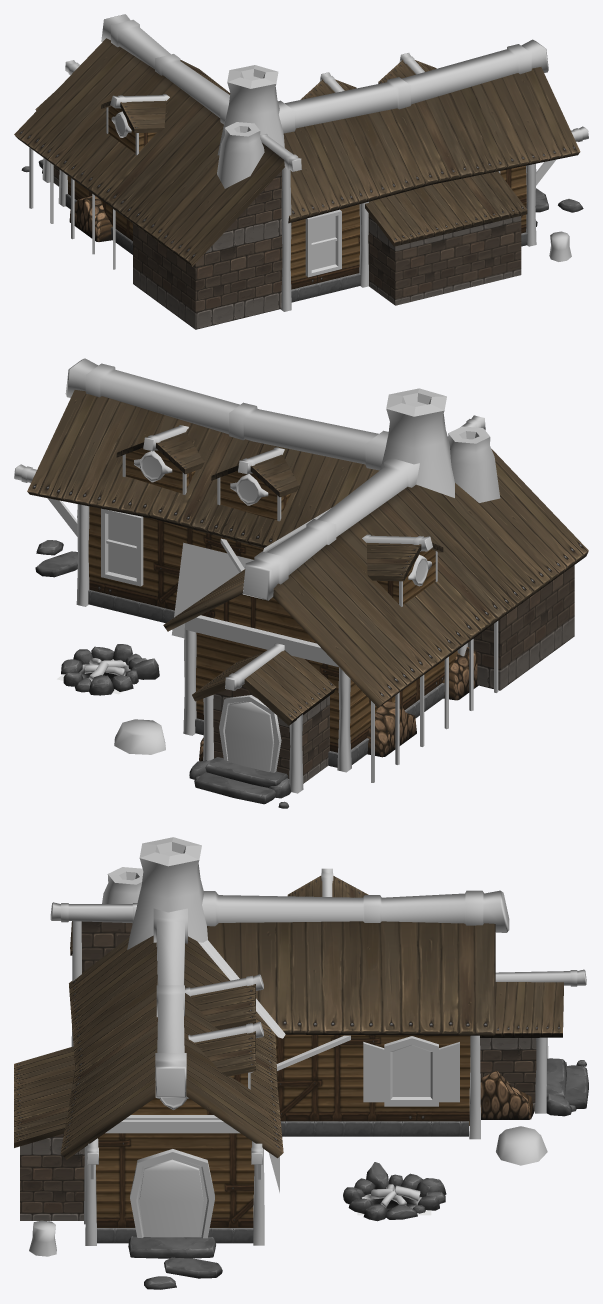
Rendered from GatheringLodge.fbx.
The picture shows the model from 3 angles, top to bottom: view 1: azimuth 30°, elevation 25°; view 2: azimuth 150°, elevation 25°; view 3: azimuth 270°, elevation 25°; orthographic projection. The views are drawn at different scales.
Visible parts, largest first — view 1: GatheringLodge_Main, Extension1, RoofWindow1, Window_7, WoodPile1, RoofWindow6, RoofWindow5, TreeStump2, BrickPorch; view 2: GatheringLodge_Main, BrickPorch, RoofWindow5, RoofWindow1, RoofWindow6, Window_5, BearPelt, Door5, WoodPile1, TreeStump1, Slab5, Slab4 (+3 smaller); view 3: GatheringLodge_Main, Extension1, BrickPorch, Window_6, Door4, RoofWindow5, RoofWindow6, DoorFrame1, WoodPile3, Slab1, TreeStump1, RoofWindow1 (+4 smaller).
Part boxes in pixels (x1=…): GatheringLodge_Main: x1=14, y1=14, x2=588, y2=329; Extension1: x1=365, y1=171, x2=527, y2=305; RoofWindow1: x1=101, y1=94, x2=169, y2=155; Window_7: x1=305, y1=209, x2=341, y2=277; WoodPile1: x1=69, y1=196, x2=112, y2=241; RoofWindow6: x1=378, y1=53, x2=436, y2=83; RoofWindow5: x1=300, y1=72, x2=356, y2=99; TreeStump2: x1=549, y1=231, x2=571, y2=261; BrickPorch: x1=35, y1=60, x2=79, y2=186; GatheringLodge_Main: x1=14, y1=358, x2=588, y2=782; BrickPorch: x1=192, y1=643, x2=336, y2=793; RoofWindow5: x1=211, y1=447, x2=299, y2=521; RoofWindow1: x1=362, y1=534, x2=443, y2=606; RoofWindow6: x1=116, y1=425, x2=204, y2=494; Window_5: x1=101, y1=508, x2=143, y2=586; BearPelt: x1=172, y1=542, x2=253, y2=638; Door5: x1=225, y1=702, x2=273, y2=771; WoodPile1: x1=367, y1=701, x2=416, y2=757; TreeStump1: x1=114, y1=719, x2=165, y2=754; Slab5: x1=194, y1=772, x2=275, y2=804; Slab4: x1=205, y1=757, x2=288, y2=787; GatheringLodge_Main: x1=50, y1=837, x2=509, y2=1245; Extension1: x1=14, y1=1046, x2=84, y2=1220; BrickPorch: x1=480, y1=969, x2=586, y2=1113; Window_6: x1=363, y1=1036, x2=459, y2=1106; Door4: x1=139, y1=1159, x2=203, y2=1236; RoofWindow5: x1=185, y1=974, x2=263, y2=1029; RoofWindow6: x1=188, y1=1021, x2=263, y2=1089; DoorFrame1: x1=130, y1=1149, x2=214, y2=1238; WoodPile3: x1=480, y1=1071, x2=534, y2=1119; Slab1: x1=128, y1=1236, x2=215, y2=1258; TreeStump1: x1=496, y1=1126, x2=547, y2=1165; RoofWindow1: x1=287, y1=868, x2=368, y2=897.
Size of the model in its own units: 23.78 by 10.97 by 22.78.
